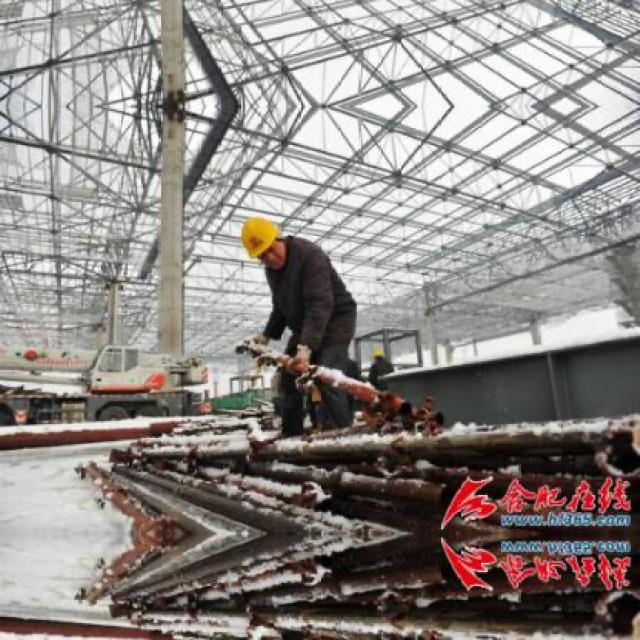helmet: (236, 213, 290, 268)
